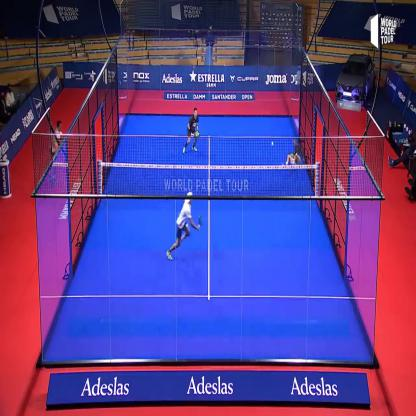ball: (269, 137, 274, 148)
